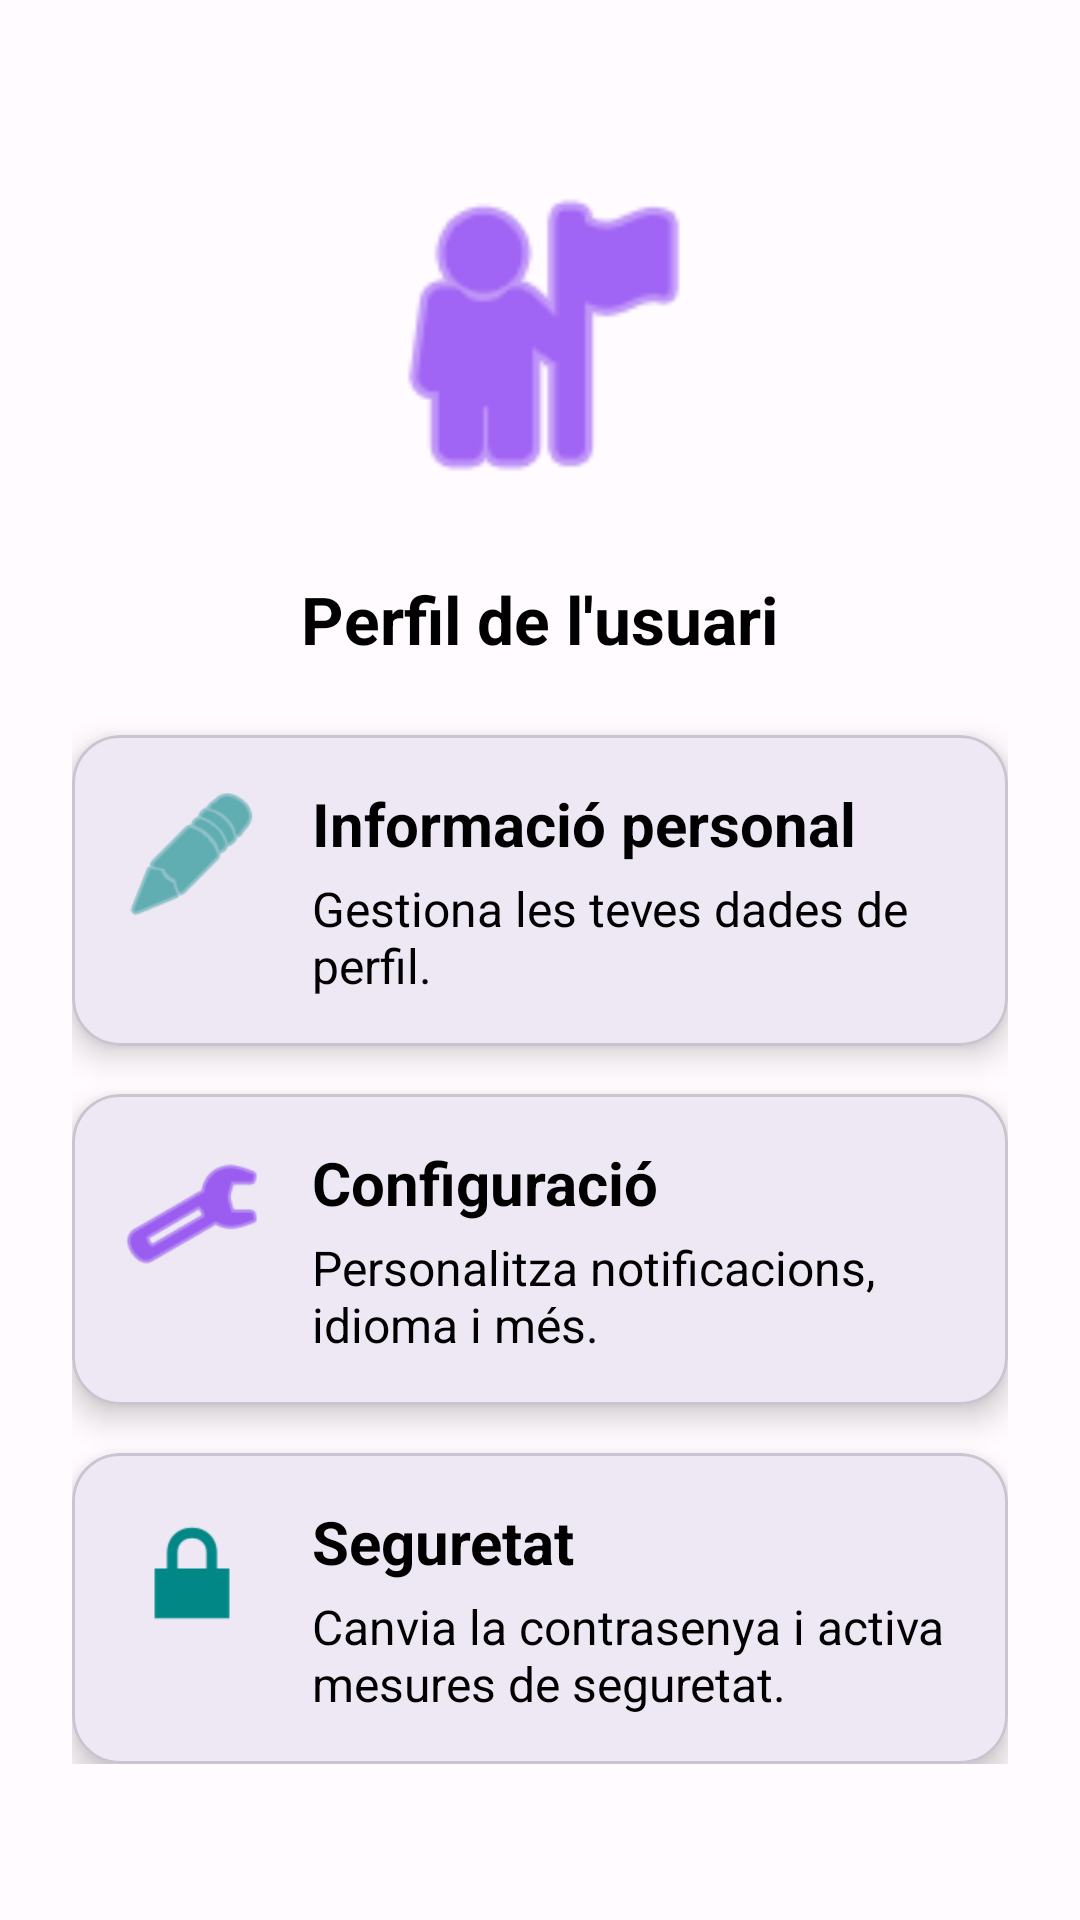

Icons on this 1080x1920 Android screen, each with its box as (x1, y1, x2, y2):
edit: (130, 793, 252, 915)
lock: (154, 1527, 230, 1619)
preferences: (127, 1164, 257, 1264)
